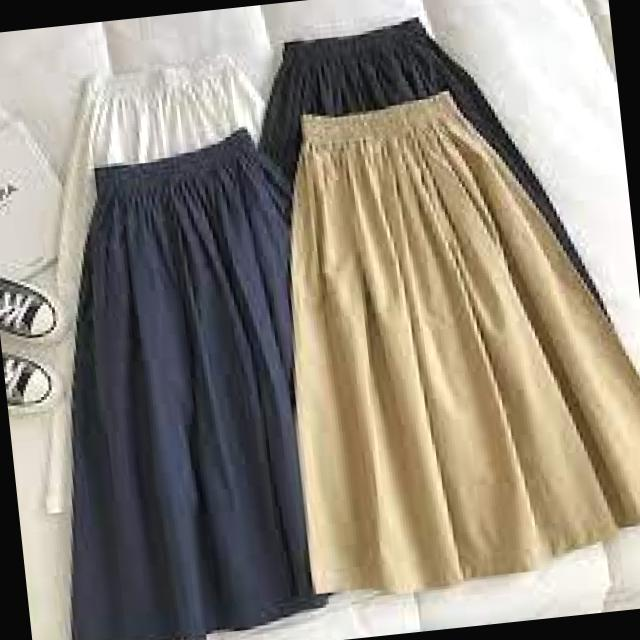skirt: (252, 57, 640, 601), (14, 112, 348, 640)
